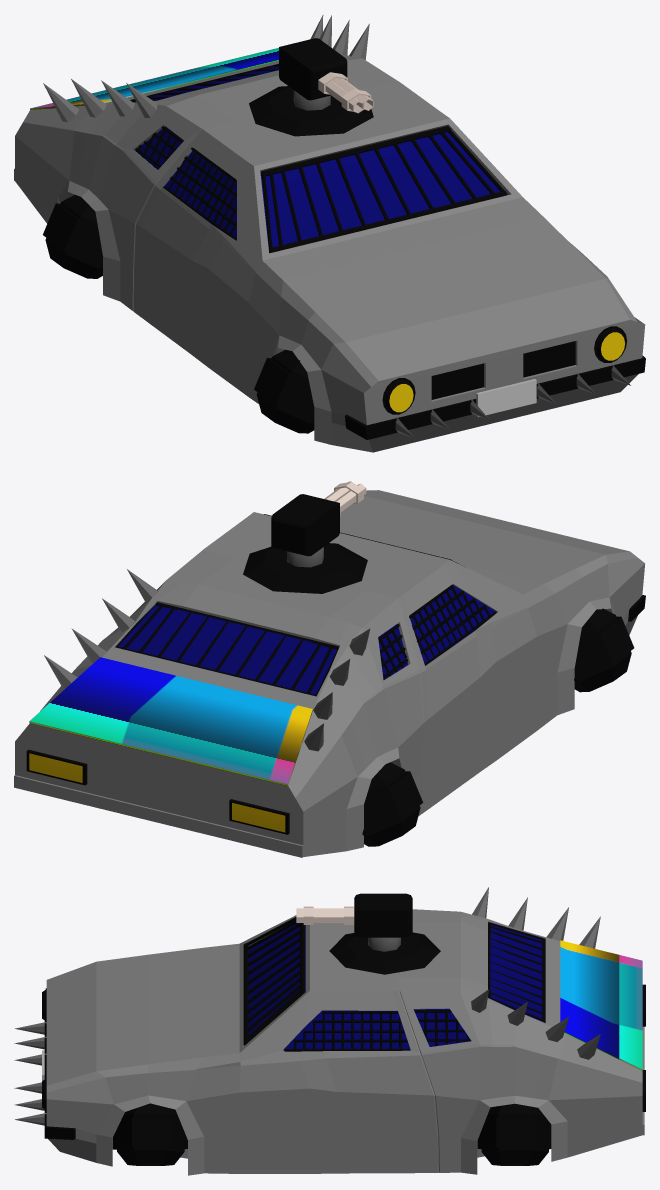
File: SM_Player_Car_02.fbx
3 renders of one model, top to bottom at view 1: azimuth 30°, elevation 25°; view 2: azimuth 150°, elevation 25°; view 3: azimuth 270°, elevation 25°, orthographic. The views are drawn at different scales.
Parts seen in each view (by area): view 1: SM_Player_Car_02, Wpn_weapon_02, Wpn_weapon_02 base; view 2: SM_Player_Car_02, Wpn_weapon_02, Wpn_weapon_02 base; view 3: SM_Player_Car_02, Wpn_weapon_02, Wpn_weapon_02 base.
Boxes of the visible parts, x1=… form: SM_Player_Car_02: x1=14, y1=14, x2=645, y2=452; Wpn_weapon_02: x1=279, y1=38, x2=373, y2=113; Wpn_weapon_02 base: x1=249, y1=86, x2=373, y2=136; SM_Player_Car_02: x1=14, y1=490, x2=645, y2=857; Wpn_weapon_02: x1=271, y1=481, x2=366, y2=567; Wpn_weapon_02 base: x1=243, y1=543, x2=367, y2=593; SM_Player_Car_02: x1=14, y1=887, x2=645, y2=1175; Wpn_weapon_02: x1=296, y1=893, x2=412, y2=951; Wpn_weapon_02 base: x1=329, y1=932, x2=440, y2=974.
Bounding box in the file's own units: 223 × 149 × 400.
3 materials, 3 textured.
